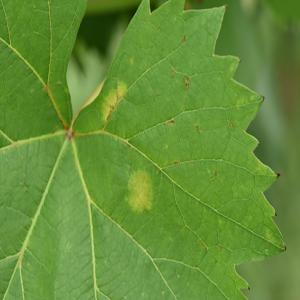Folha: (0, 0, 300, 300)
Fungo: (101, 78, 129, 128), (125, 166, 153, 214), (183, 75, 189, 90), (166, 117, 175, 127), (275, 170, 283, 180), (170, 68, 176, 78), (128, 56, 134, 66), (184, 79, 189, 89), (228, 121, 235, 128), (246, 284, 252, 292), (261, 94, 265, 106), (195, 124, 200, 132), (274, 212, 279, 219), (238, 57, 242, 65), (223, 4, 228, 9), (284, 247, 288, 253), (183, 34, 186, 41)
